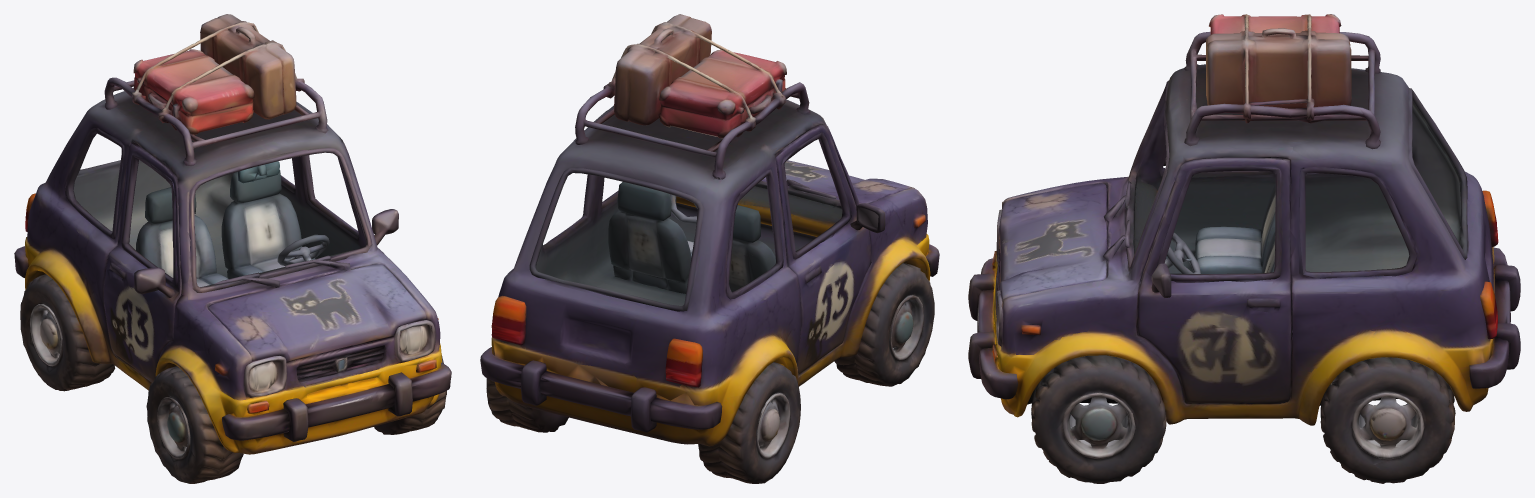
The model's file is enemy_car_purple.glb.
3 renders of one model, left to right at view 1: azimuth 30°, elevation 25°; view 2: azimuth 150°, elevation 25°; view 3: azimuth 270°, elevation 25°, orthographic. The views are drawn at different scales.
Visible parts, largest first — view 1: tripo_part_0, tripo_part_12, tripo_part_4, tripo_part_7, tripo_part_14, tripo_part_1, tripo_part_5, tripo_part_13, tripo_part_8, tripo_part_2, tripo_part_15, tripo_part_6 (+7 smaller); view 2: tripo_part_0, tripo_part_12, tripo_part_1, tripo_part_4, tripo_part_7, tripo_part_9, tripo_part_13, tripo_part_8, tripo_part_6, tripo_part_16, tripo_part_2, tripo_part_21 (+7 smaller); view 3: tripo_part_0, tripo_part_12, tripo_part_3, tripo_part_11, tripo_part_8, tripo_part_6, tripo_part_2, tripo_part_14, tripo_part_9, tripo_part_19, tripo_part_17, tripo_part_15 (+5 smaller).
Boxes of the visible parts, x1,y1,x2,y2 form: tripo_part_0: (25, 88, 441, 454); tripo_part_12: (73, 156, 366, 285); tripo_part_4: (146, 366, 243, 483); tripo_part_7: (133, 49, 254, 134); tripo_part_14: (222, 362, 451, 441); tripo_part_1: (20, 274, 115, 391); tripo_part_5: (244, 320, 435, 397); tripo_part_13: (221, 170, 315, 278); tripo_part_8: (164, 14, 297, 119); tripo_part_2: (136, 187, 228, 286); tripo_part_15: (187, 148, 371, 292); tripo_part_6: (104, 77, 328, 165); tripo_part_0: (491, 99, 930, 446); tripo_part_12: (536, 176, 842, 305); tripo_part_1: (698, 362, 800, 483); tripo_part_4: (834, 263, 934, 386); tripo_part_7: (658, 49, 786, 138); tripo_part_9: (480, 347, 722, 432); tripo_part_13: (608, 182, 693, 293); tripo_part_8: (612, 14, 750, 125); tripo_part_6: (575, 77, 810, 179); tripo_part_16: (529, 168, 703, 311); tripo_part_2: (729, 205, 775, 291); tripo_part_21: (781, 132, 851, 259); tripo_part_0: (992, 64, 1494, 425); tripo_part_12: (1133, 101, 1461, 273); tripo_part_3: (1031, 355, 1166, 483); tripo_part_11: (1320, 357, 1455, 483); tripo_part_8: (1206, 17, 1351, 108); tripo_part_6: (1184, 31, 1380, 149); tripo_part_2: (1176, 183, 1275, 273); tripo_part_14: (968, 258, 1017, 399); tripo_part_9: (1469, 247, 1520, 388); tripo_part_19: (1157, 166, 1282, 282); tripo_part_17: (1299, 166, 1416, 278); tripo_part_15: (1114, 80, 1169, 271).
Size of the model in its own units: 0.6126 by 0.7958 by 0.9827.
1 material, 1 textured.
